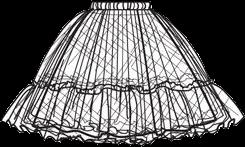Hemline: (1, 116, 243, 145)
Waistline: (32, 81, 211, 94), (90, 7, 151, 10), (91, 0, 150, 3)
